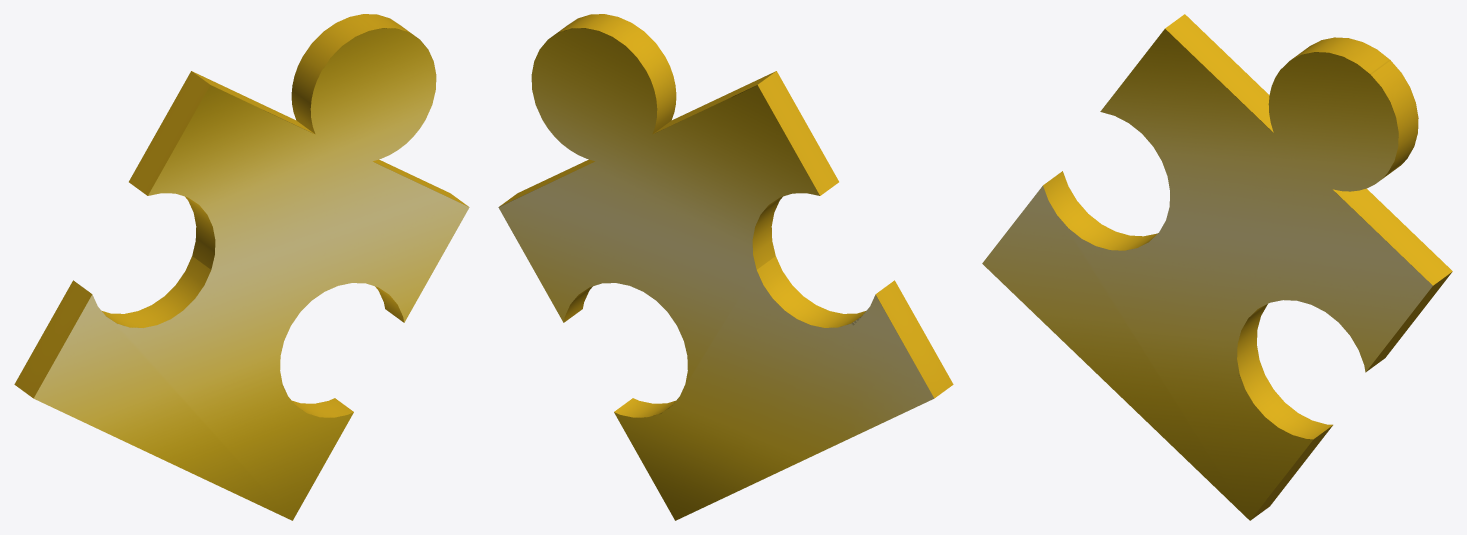
The model's file is Puzzle_Peice_V2.FBX.
3 views of the same model, side by side, from view 1: azimuth 30°, elevation 25°; view 2: azimuth 150°, elevation 25°; view 3: azimuth 330°, elevation 25° (orthographic). The views are drawn at different scales.
Visible parts, largest first — view 1: Rectangle001; view 2: Rectangle001; view 3: Rectangle001.
Boxes of the visible parts, left/top/right/bottom form: Rectangle001: left=14, top=14, right=469, bottom=520; Rectangle001: left=498, top=14, right=953, bottom=520; Rectangle001: left=982, top=14, right=1452, bottom=520.
Bounding box in the file's own units: 173 × 179 × 13.2.
